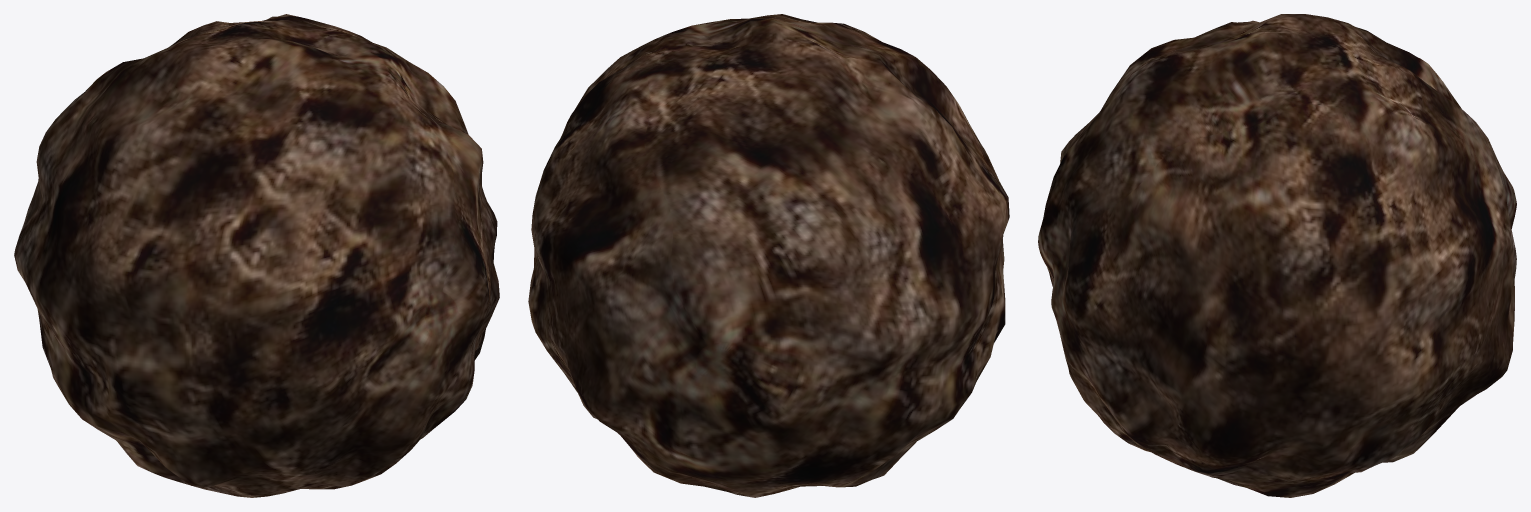
File: PepperBlack.obj
3 views of the same model, side by side, from view 1: azimuth 30°, elevation 25°; view 2: azimuth 150°, elevation 25°; view 3: azimuth 270°, elevation 25° (orthographic).
Visible parts, largest first — view 1: PepperBlack; view 2: PepperBlack; view 3: PepperBlack.
Part boxes in pixels (box(x1,y1,x2,y2)): PepperBlack: box(14, 14, 499, 497); PepperBlack: box(528, 14, 1009, 497); PepperBlack: box(1038, 14, 1516, 497).
Bounding box in the file's own units: 0.00416 × 0.00414 × 0.0041.
1 material, 1 textured.
